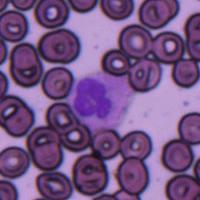N: (68, 72, 133, 130)
